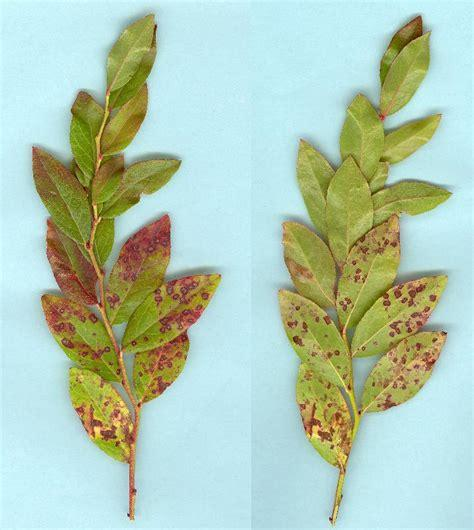black-spot: (381, 287, 423, 330)
